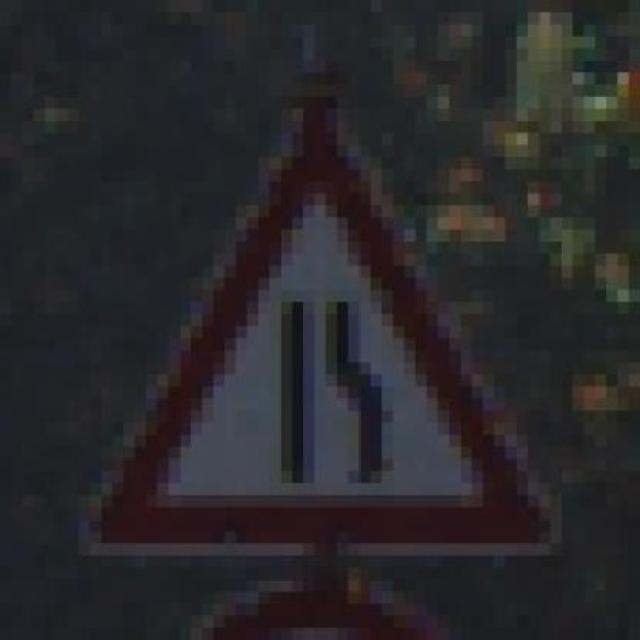-Road narrows on right: (78, 85, 572, 580)
